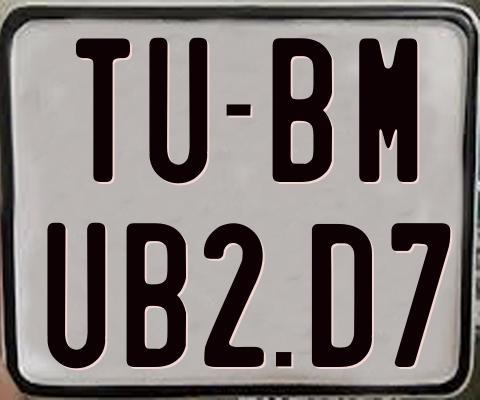2: (203, 222, 268, 370)
7: (391, 221, 452, 369)
B: (270, 37, 336, 181), (124, 221, 187, 371)
D: (311, 222, 377, 369)
M: (359, 35, 421, 184)
T: (76, 35, 134, 182)
U: (148, 35, 207, 180), (46, 221, 105, 366)
